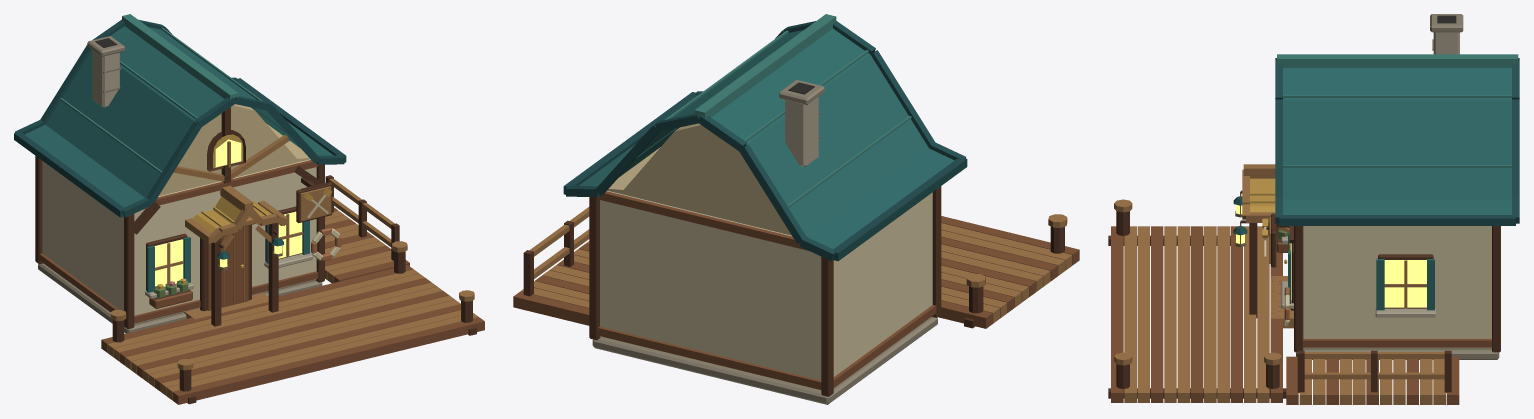
The model's file is ferry-house.glb.
3 renders of one model, left to right at view 1: azimuth 30°, elevation 25°; view 2: azimuth 150°, elevation 25°; view 3: azimuth 270°, elevation 25°, orthographic. The views are drawn at different scales.
Parts seen in each view (by area): view 1: ferry-house; view 2: ferry-house; view 3: ferry-house.
Part boxes in pixels (x1,y1,x2,y2): ferry-house: (14,14,484,404); ferry-house: (513,14,1079,404); ferry-house: (1108,14,1519,404).
Size of the model in its own units: 8.78 by 6.32 by 9.05.
